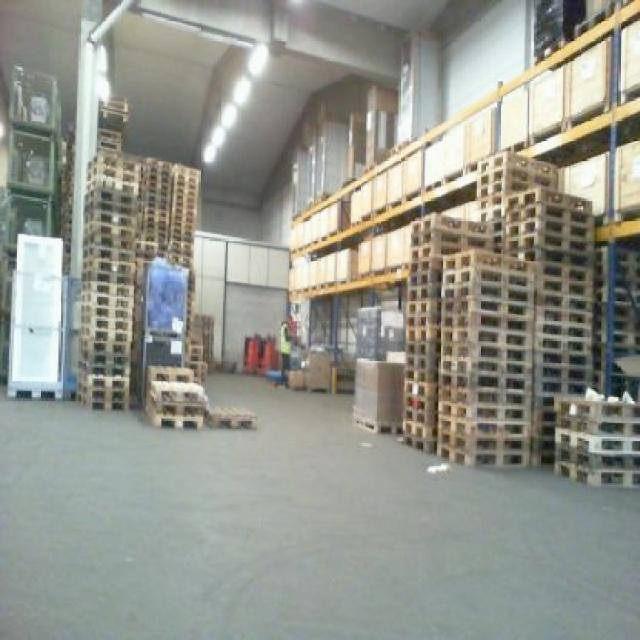floor: (0, 372, 637, 637)
pallets: (288, 0, 637, 483), (6, 232, 60, 395), (554, 394, 637, 485)
